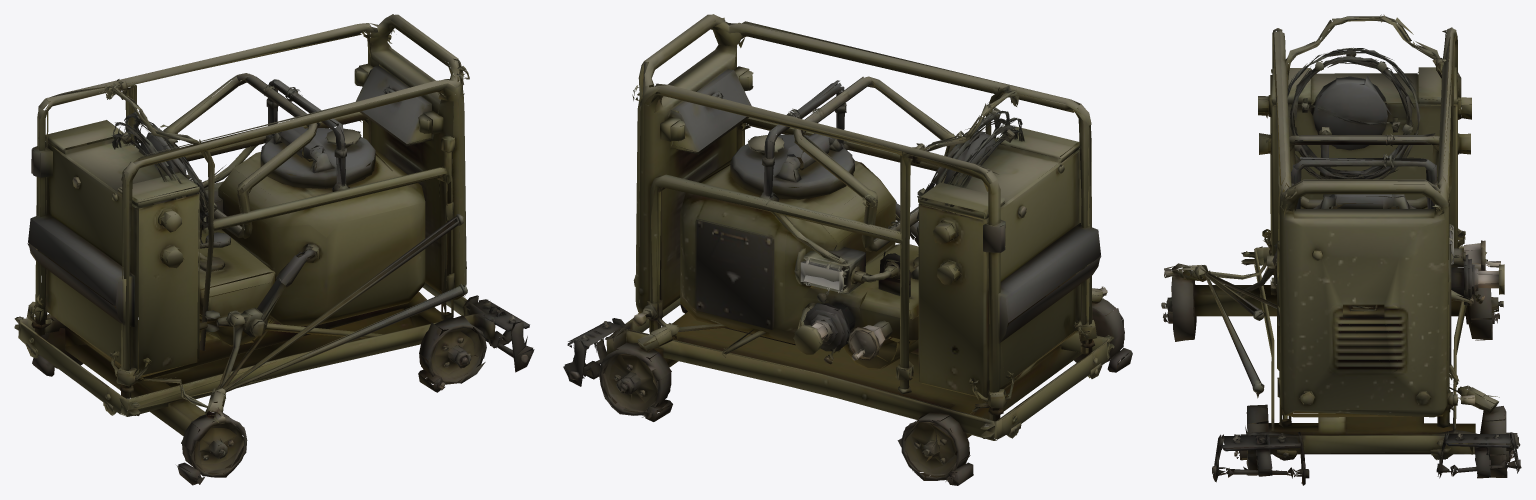
File: ch4_meridian_generator_LOD1.glb
3 renders of one model, left to right at view 1: azimuth 30°, elevation 25°; view 2: azimuth 150°, elevation 25°; view 3: azimuth 270°, elevation 25°, orthographic. The views are drawn at different scales.
Parts seen in each view (by area): view 1: tripo_node_9e752b1c-60be-4cdb-9f9e-50ec3e205cbf; view 2: tripo_node_9e752b1c-60be-4cdb-9f9e-50ec3e205cbf; view 3: tripo_node_9e752b1c-60be-4cdb-9f9e-50ec3e205cbf.
Part boxes in pixels (left/top/right/bottom): tripo_node_9e752b1c-60be-4cdb-9f9e-50ec3e205cbf: left=14, top=14, right=534, bottom=485; tripo_node_9e752b1c-60be-4cdb-9f9e-50ec3e205cbf: left=563, top=14, right=1132, bottom=485; tripo_node_9e752b1c-60be-4cdb-9f9e-50ec3e205cbf: left=1161, top=14, right=1521, bottom=485.
Bounding box in the file's own units: 1 × 0.7732 × 0.7793.
1 material, 1 textured.
